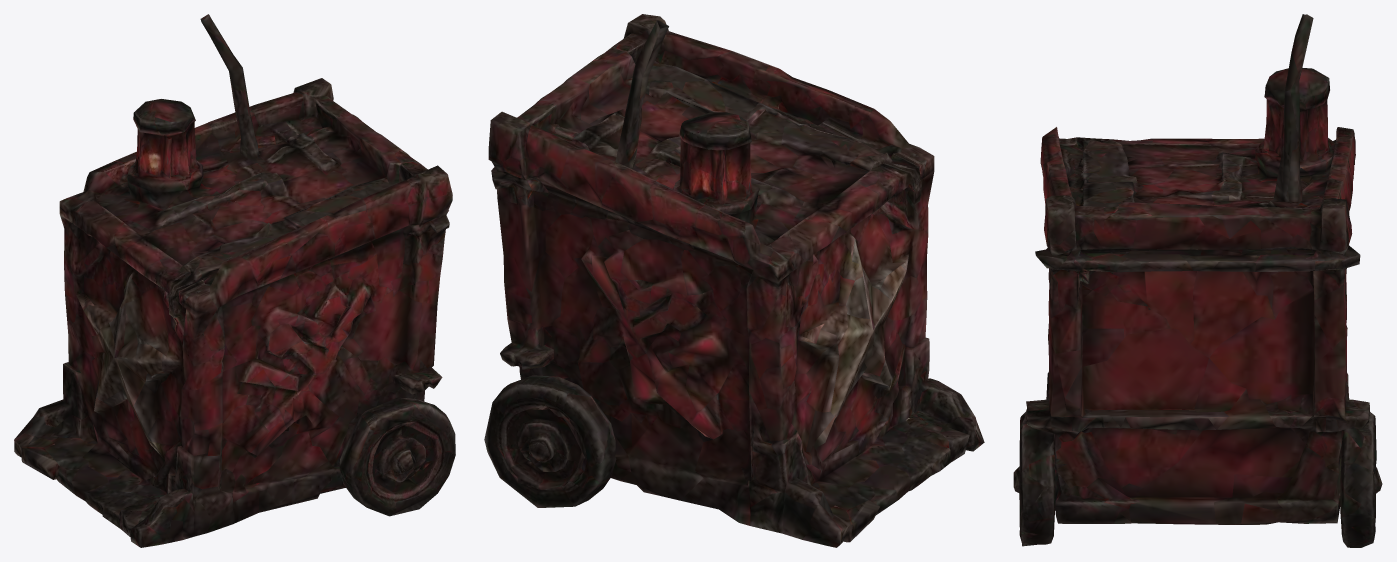
Rendered from starbox.glb.
3 views of the same model, side by side, from view 1: azimuth 30°, elevation 25°; view 2: azimuth 150°, elevation 25°; view 3: azimuth 270°, elevation 25° (orthographic). The views are drawn at different scales.
Bounding box in the file's own units: 150 × 190 × 130.
1 material, 1 textured.
